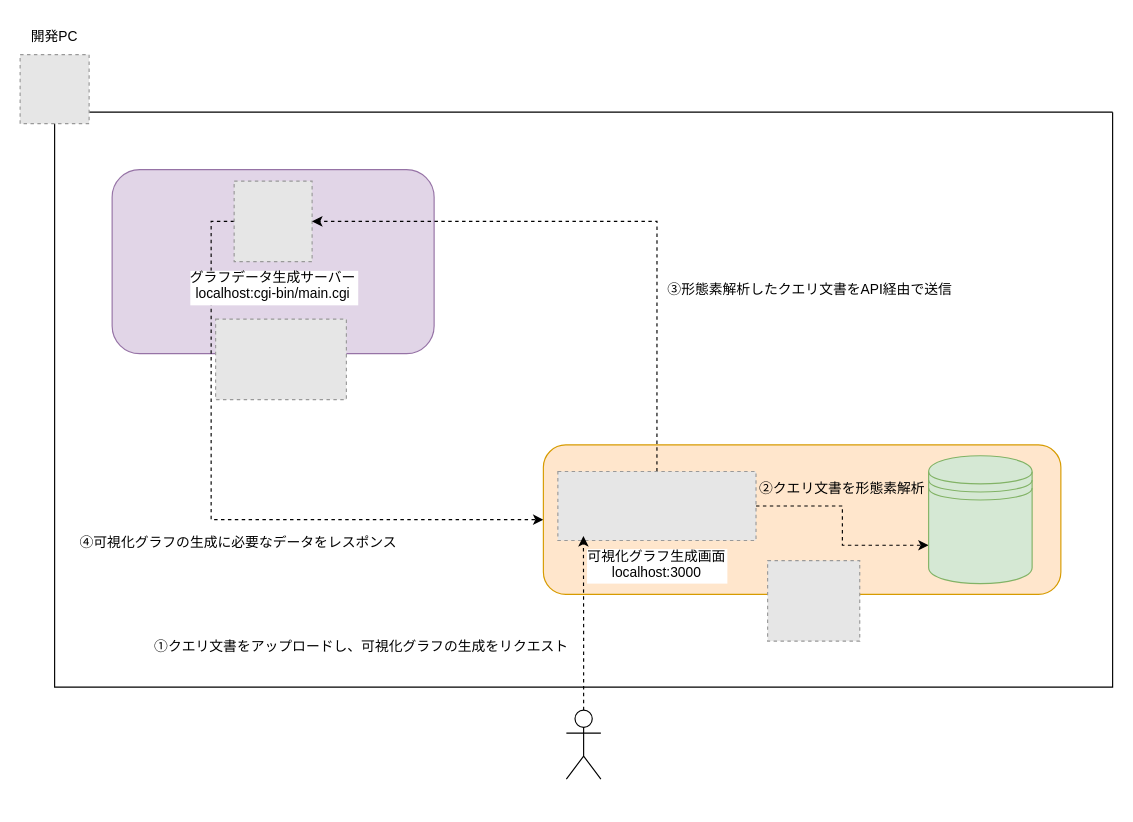
This 1133x822 diagram has some shape labels left out. Grey dashed boxes stand in for pictures. The shapes that lost their labels are listed below. From the top down, each one's box as (x1, y1, x2, y2) in pixels, then its label:
(927, 455, 1032, 584): MeCab localhost:4000
(565, 709, 601, 779): 開発者
